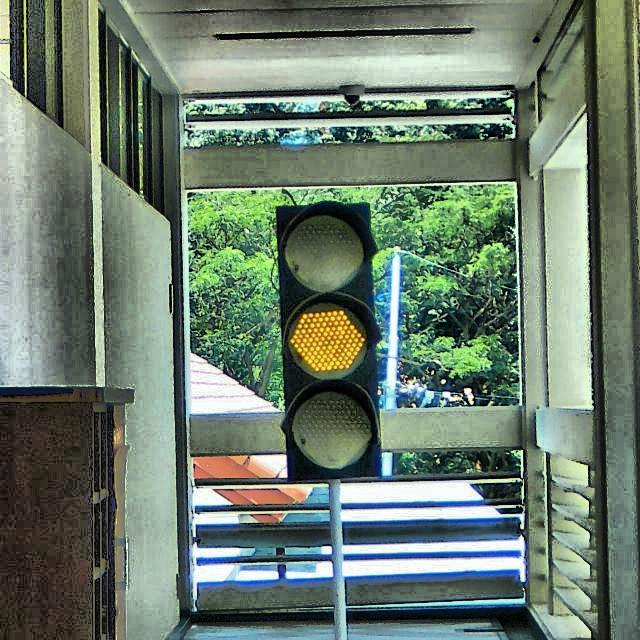yellow: (276, 202, 378, 484)
